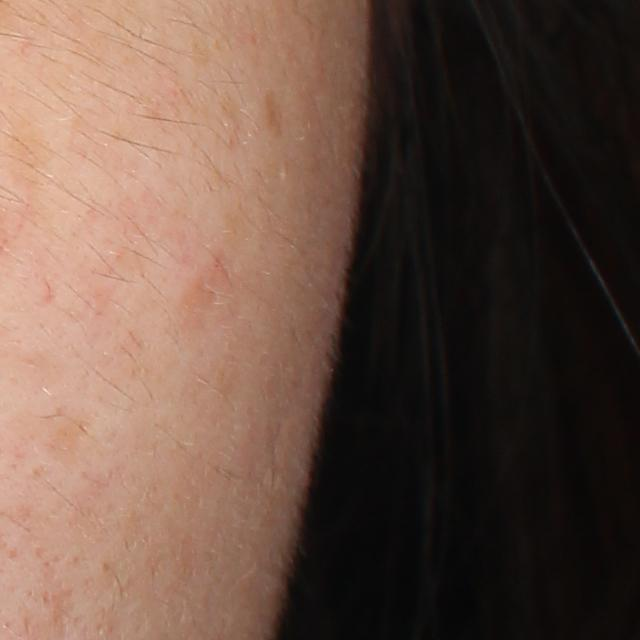melasma: (8, 122, 52, 181), (264, 87, 286, 136)
